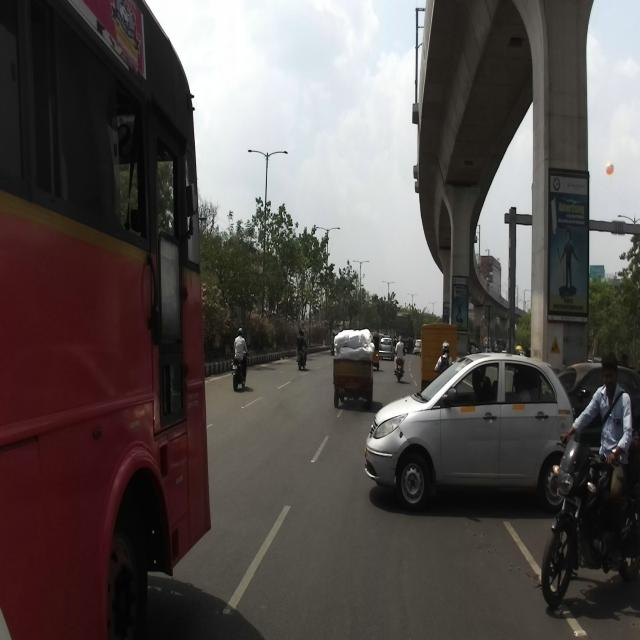Car_TATA: (364, 351, 575, 515)
Car_Volkswagen: (556, 361, 640, 455)
bus: (0, 1, 211, 640)
motorcycle_bajaj: (542, 432, 640, 607)
